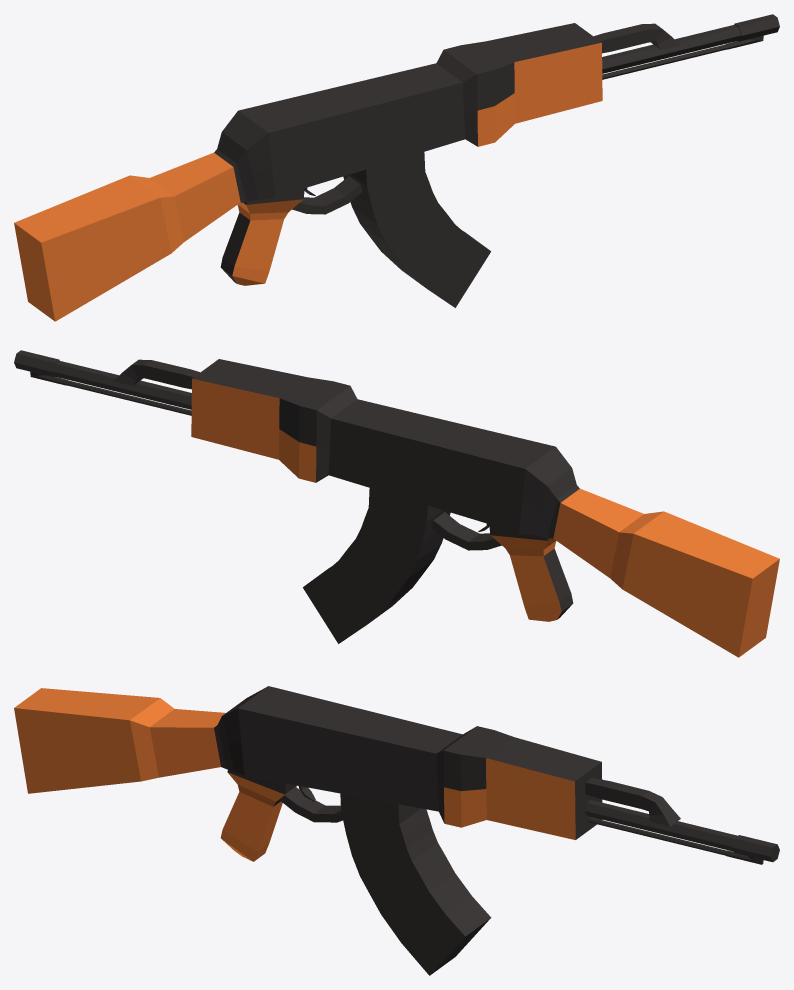
3 views of the same model, one above another, from view 1: azimuth 30°, elevation 25°; view 2: azimuth 150°, elevation 25°; view 3: azimuth 330°, elevation 25° (orthographic).
Visible parts, largest first — view 1: Cube; view 2: Cube; view 3: Cube.
Part boxes in pixels (bbox=[...]): Cube: bbox=[14, 14, 779, 321]; Cube: bbox=[14, 350, 779, 657]; Cube: bbox=[14, 686, 779, 975].
Size of the model in its own units: 474 by 141 by 36.87.
